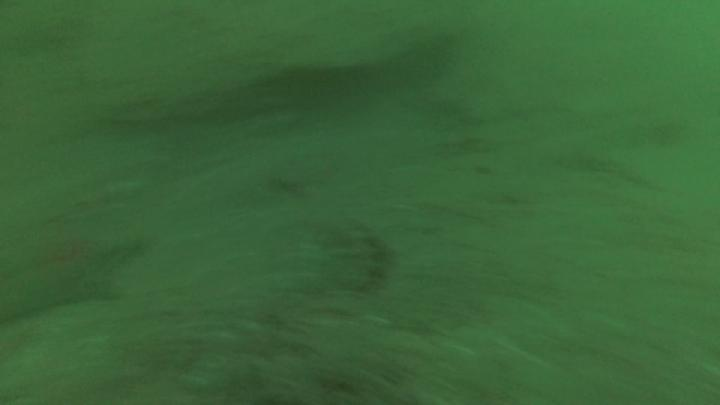holothurian: (351, 219, 392, 296)
starfish: (1, 219, 145, 319)
